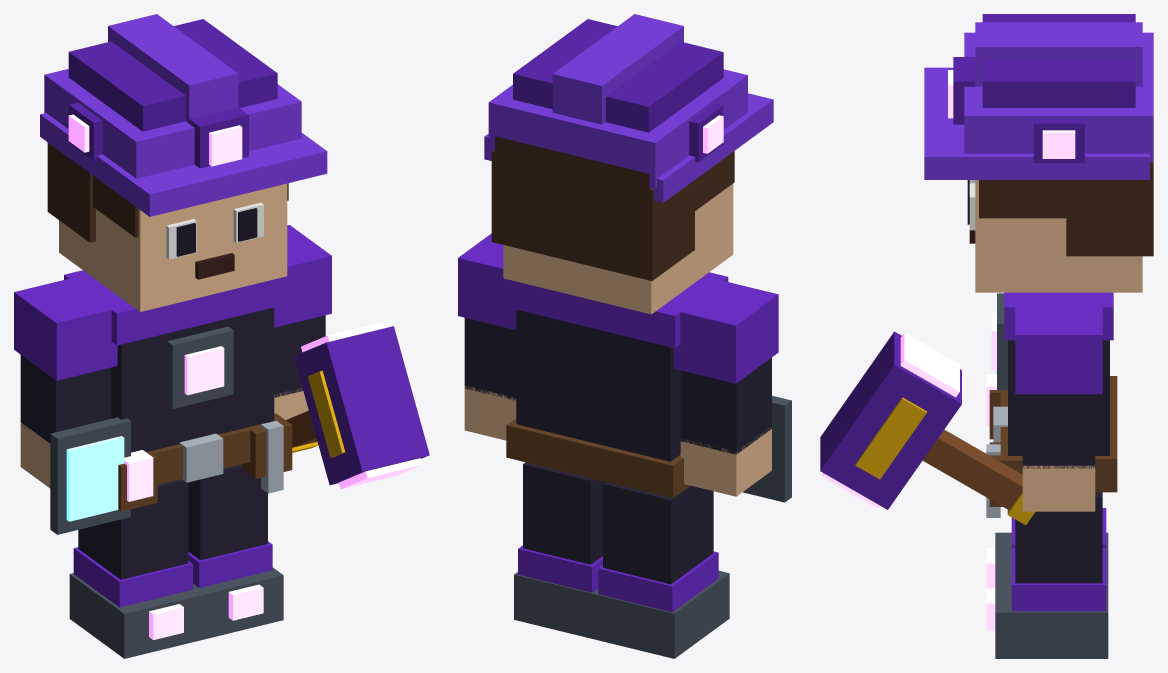
File: aria-engineer.glb
3 renders of one model, left to right at view 1: azimuth 30°, elevation 25°; view 2: azimuth 150°, elevation 25°; view 3: azimuth 270°, elevation 25°, orthographic. The views are drawn at different scales.
Visible parts, largest first — view 1: Head, Torso, LegL, ToolHammer, ArmL, LegR, ToolTablet, ArmR; view 2: Head, Torso, LegL, ArmL, LegR, ArmR, ToolTablet; view 3: Head, ToolHammer, ArmR, LegR, Torso, LegL.
Boxes of the visible parts, bbox=[...] form: Head: bbox=[40, 14, 327, 311]; Torso: bbox=[64, 270, 292, 511]; LegL: bbox=[69, 479, 203, 658]; ToolHammer: bbox=[286, 322, 429, 489]; ArmL: bbox=[14, 277, 117, 488]; LegR: bbox=[188, 464, 283, 639]; ToolTablet: bbox=[50, 417, 130, 534]; ArmR: bbox=[274, 225, 331, 419]; Head: bbox=[484, 14, 773, 314]; Torso: bbox=[506, 272, 728, 497]; LegL: bbox=[594, 482, 729, 658]; ArmL: bbox=[674, 279, 778, 496]; LegR: bbox=[514, 462, 605, 639]; ArmR: bbox=[458, 233, 516, 440]; ToolTablet: bbox=[743, 395, 791, 502]; Head: bbox=[924, 14, 1153, 292]; ToolHammer: bbox=[820, 331, 1035, 525]; ArmR: bbox=[1015, 304, 1102, 511]; LegR: bbox=[986, 492, 1108, 658]; Torso: bbox=[986, 292, 1117, 517]; LegL: bbox=[986, 508, 1108, 588].
Size of the model in its own units: 0.94 by 1.77 by 0.9155.
